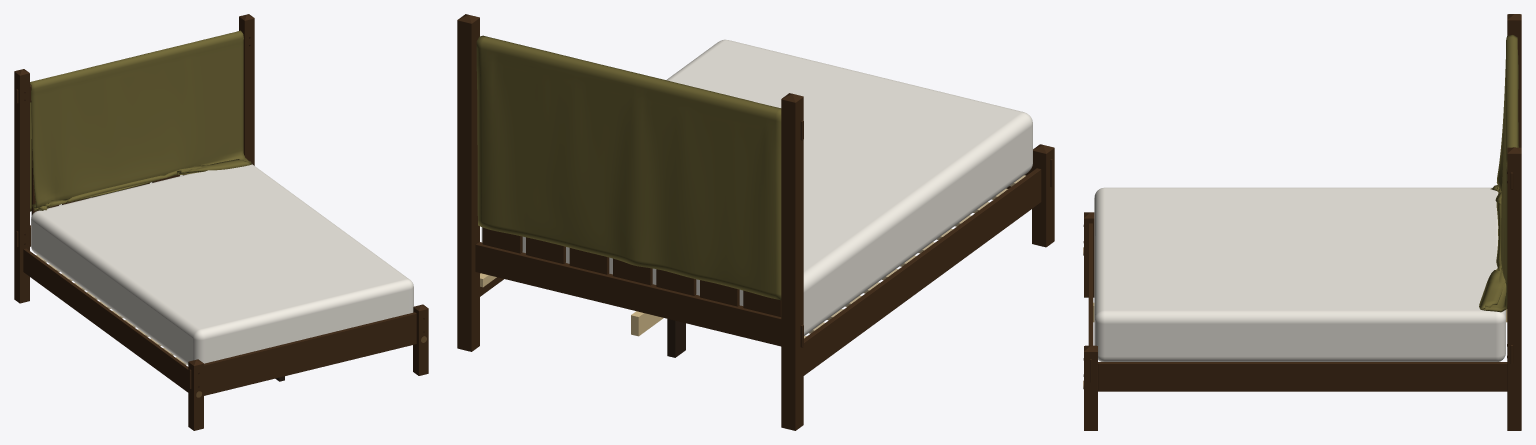
File: bed-frame-quilt.glb
3 views of the same model, side by side, from view 1: azimuth 30°, elevation 25°; view 2: azimuth 150°, elevation 25°; view 3: azimuth 270°, elevation 25° (orthographic). The views are drawn at different scales.
Visible parts, largest first — view 1: Bed mattress, Bed headboard cover, Bed foot rail, Bed side rail L, Bed headboard post L, Bed headboard post R, Bed foot leg L, Bed foot leg R; view 2: Bed headboard cover, Bed mattress, Bed headboard rail bottom, Bed side rail L, Bed headboard post L, Bed headboard post R, Bed foot leg L, Bed headboard slat 5, Bed headboard slat 6, Bed headboard slat 3, Bed headboard slat 2, Bed headboard slat 7 (+3 smaller); view 3: Bed mattress, Bed side rail R, Bed headboard post R, Bed headboard cover, Bed foot leg R, Bed foot rail, Bed headboard post L, Bed foot leg L.
Boxes of the visible parts, x1,y1,x2,y2 form: Bed mattress: (31,164,413,364); Bed headboard cover: (30,30,252,211); Bed foot rail: (204,312,416,395); Bed side rail L: (23,248,188,392); Bed headboard post L: (14,72,29,303); Bed headboard post R: (239,17,254,165); Bed foot leg L: (188,362,203,430); Bed foot leg R: (413,307,428,375); Bed headboard cover: (476,35,781,300); Bed mattress: (481,39,1032,335); Bed headboard rail bottom: (475,242,781,346); Bed side rail L: (803,168,1041,375); Bed headboard post L: (781,97,803,430); Bed headboard post R: (457,18,479,351); Bed foot leg L: (1032,148,1054,247); Bed headboard slat 5: (569,248,609,274); Bed headboard slat 6: (526,237,565,263); Bed headboard slat 3: (656,269,696,295); Bed headboard slat 2: (700,280,739,306); Bed headboard slat 7: (482,227,522,253); Bed mattress: (1094,187,1505,361); Bed side rail R: (1098,362,1507,391); Bed headboard post R: (1507,153,1521,430); Bed headboard cover: (1479,35,1518,312); Bed foot leg R: (1084,352,1097,430); Bed foot rail: (1088,223,1093,345); Bed headboard post L: (1507,20,1521,147); Bed foot leg L: (1084,218,1094,297).
Bounding box in the file's own units: 1.65 × 1.53 × 2.16.
